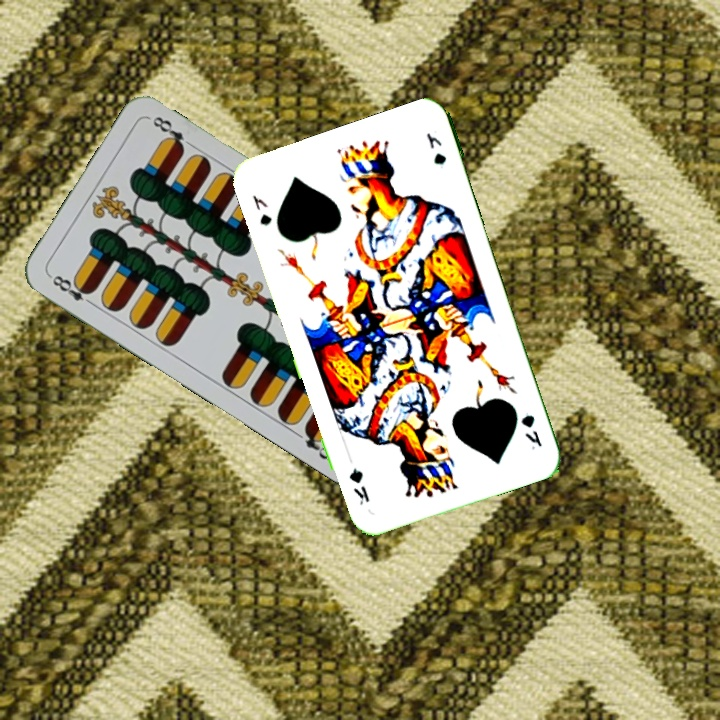E8: (46, 271, 98, 309)
GK: (517, 410, 545, 453), (248, 190, 275, 229)
